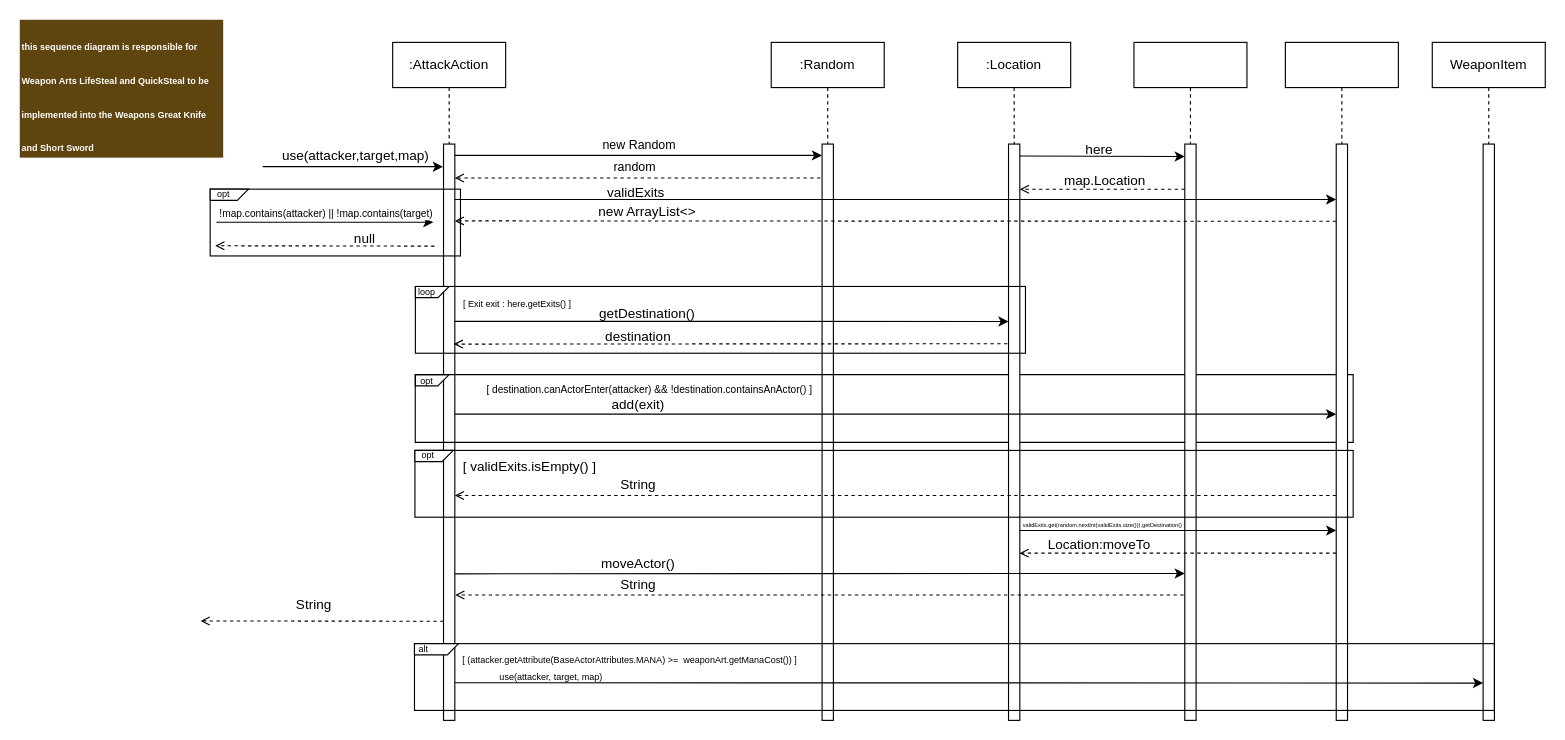
This 1565x740 diagram has some shape labels left out. Here are the shapes that lost their labels. From the top down, the box of each, then its label:
(1133, 41, 1247, 664): map:GameMap
(1284, 41, 1398, 709): Exit
